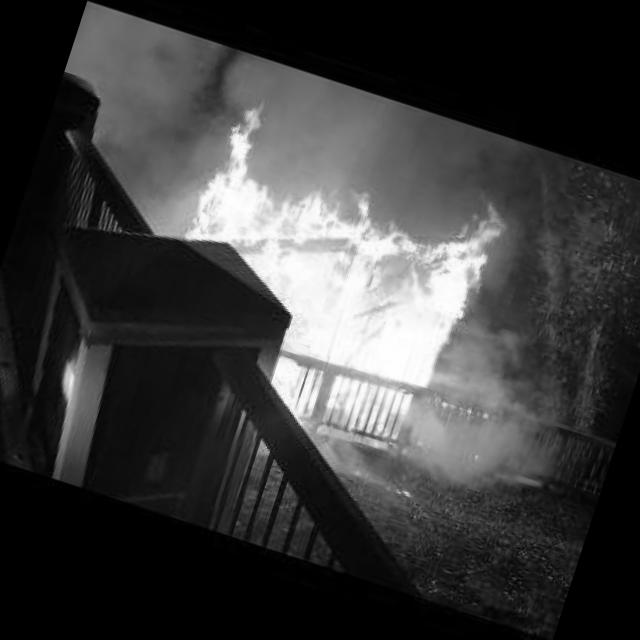fire: (145, 94, 532, 452)
